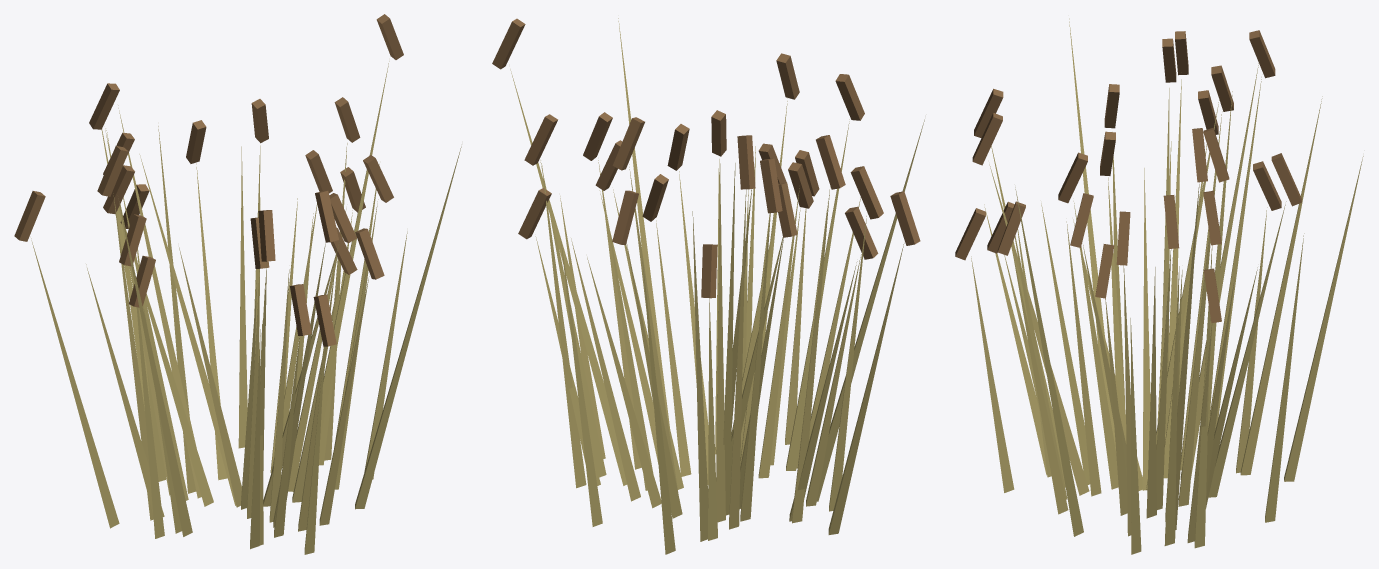
File: nature_reed_b.glb
The picture shows the model from 3 angles, left to right: view 1: azimuth 30°, elevation 25°; view 2: azimuth 150°, elevation 25°; view 3: azimuth 270°, elevation 25°; orthographic projection. The views are drawn at different scales.
Visible parts, largest first — view 1: nature_reed_b; view 2: nature_reed_b; view 3: nature_reed_b.
Boxes of the visible parts, x1,y1,x2,y2 form: nature_reed_b: [14, 14, 461, 554]; nature_reed_b: [492, 18, 924, 554]; nature_reed_b: [955, 18, 1363, 554].
Size of the model in its own units: 3.14 by 3.27 by 2.69.
